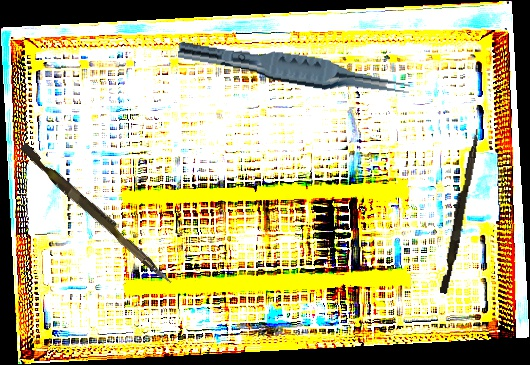Pusher: (16, 142, 178, 286), (439, 127, 481, 295)
Tissue Forceps: (175, 39, 413, 102)
